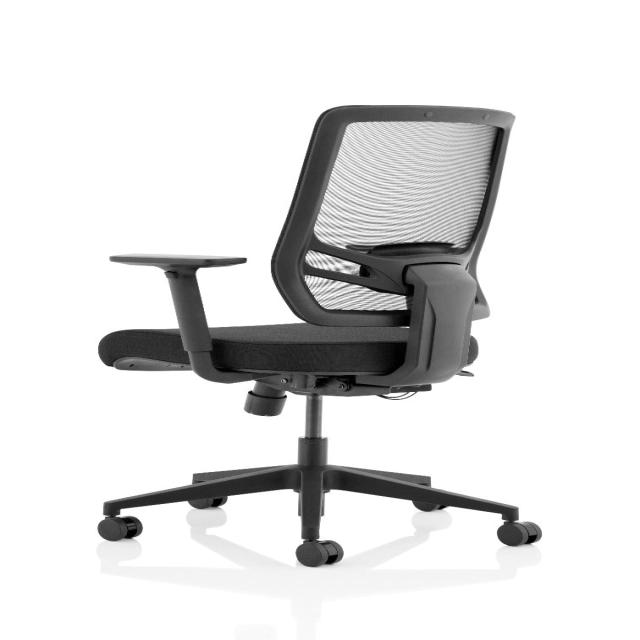chair: (95, 103, 542, 567)
